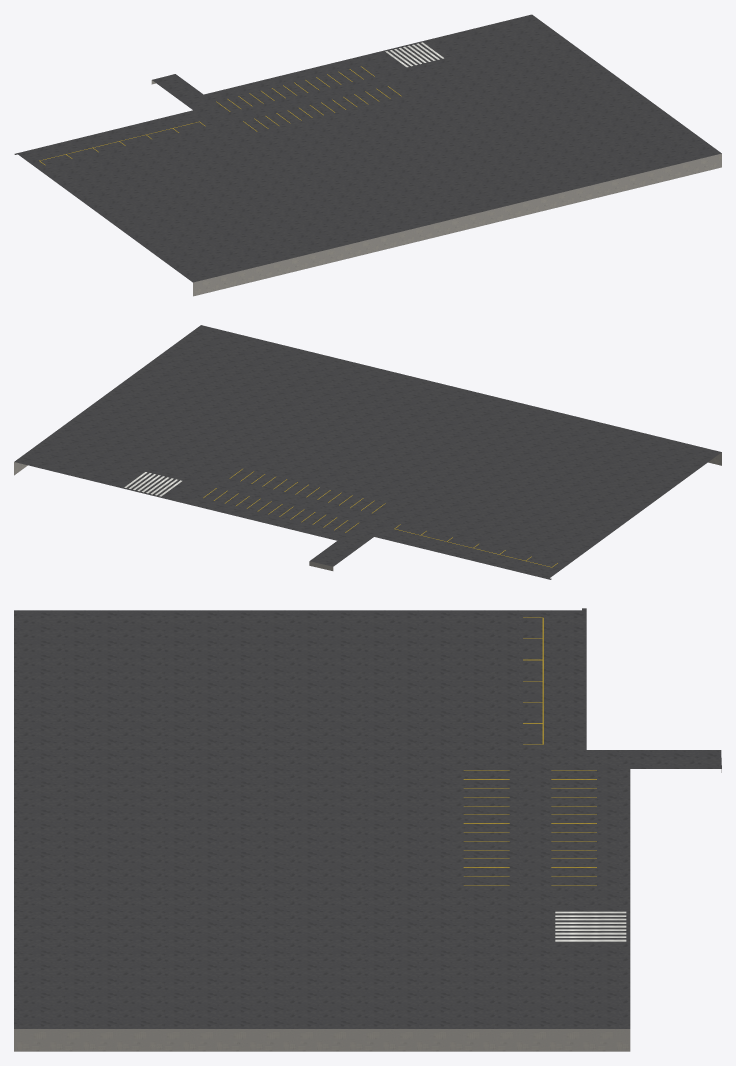
File: SM_MoloItalia_Suolo_Radice.fbx
The picture shows the model from 3 angles, top to bottom: view 1: azimuth 30°, elevation 25°; view 2: azimuth 150°, elevation 25°; view 3: azimuth 270°, elevation 25°; orthographic projection. The views are drawn at different scales.
Visible parts, largest first — view 1: SM_MoloItalia_Suolo_Radice; view 2: SM_MoloItalia_Suolo_Radice; view 3: SM_MoloItalia_Suolo_Radice.
Boxes of the visible parts, bbox=[...] form: SM_MoloItalia_Suolo_Radice: bbox=[14, 14, 721, 296]; SM_MoloItalia_Suolo_Radice: bbox=[14, 325, 721, 579]; SM_MoloItalia_Suolo_Radice: bbox=[14, 608, 721, 1051].
Size of what is drawn, in the model's own units: 11955 by 8500 by 300.
Materials: 3 (3 with a texture image).
